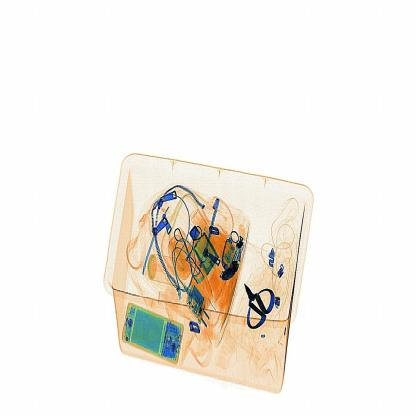gun: (241, 278, 285, 339)
